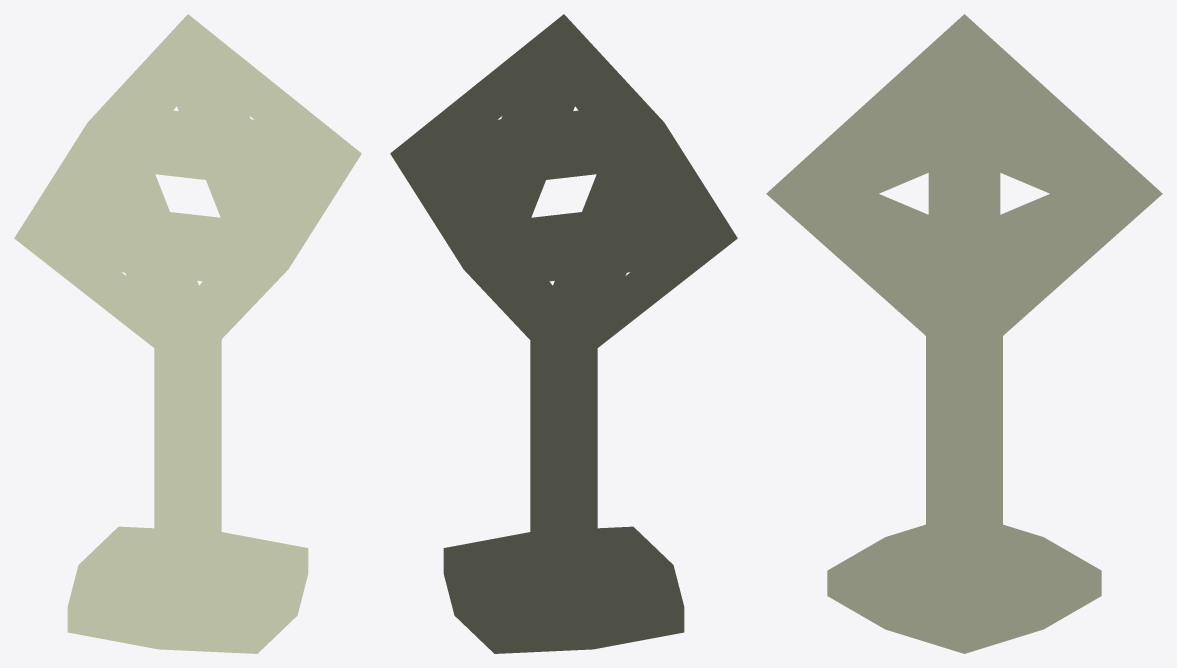
The model's file is light_post.dae.
3 renders of one model, left to right at view 1: azimuth 30°, elevation 25°; view 2: azimuth 150°, elevation 25°; view 3: azimuth 270°, elevation 25°, orthographic.
Visible parts, largest first — view 1: octahedron1-0; view 2: octahedron1-0; view 3: octahedron1-0.
Boxes of the visible parts, x1,y1,x2,y2 form: octahedron1-0: [14, 14, 361, 653]; octahedron1-0: [390, 14, 737, 653]; octahedron1-0: [766, 14, 1162, 653].
Bounding box in the file's own units: 4 × 6.47 × 4.
